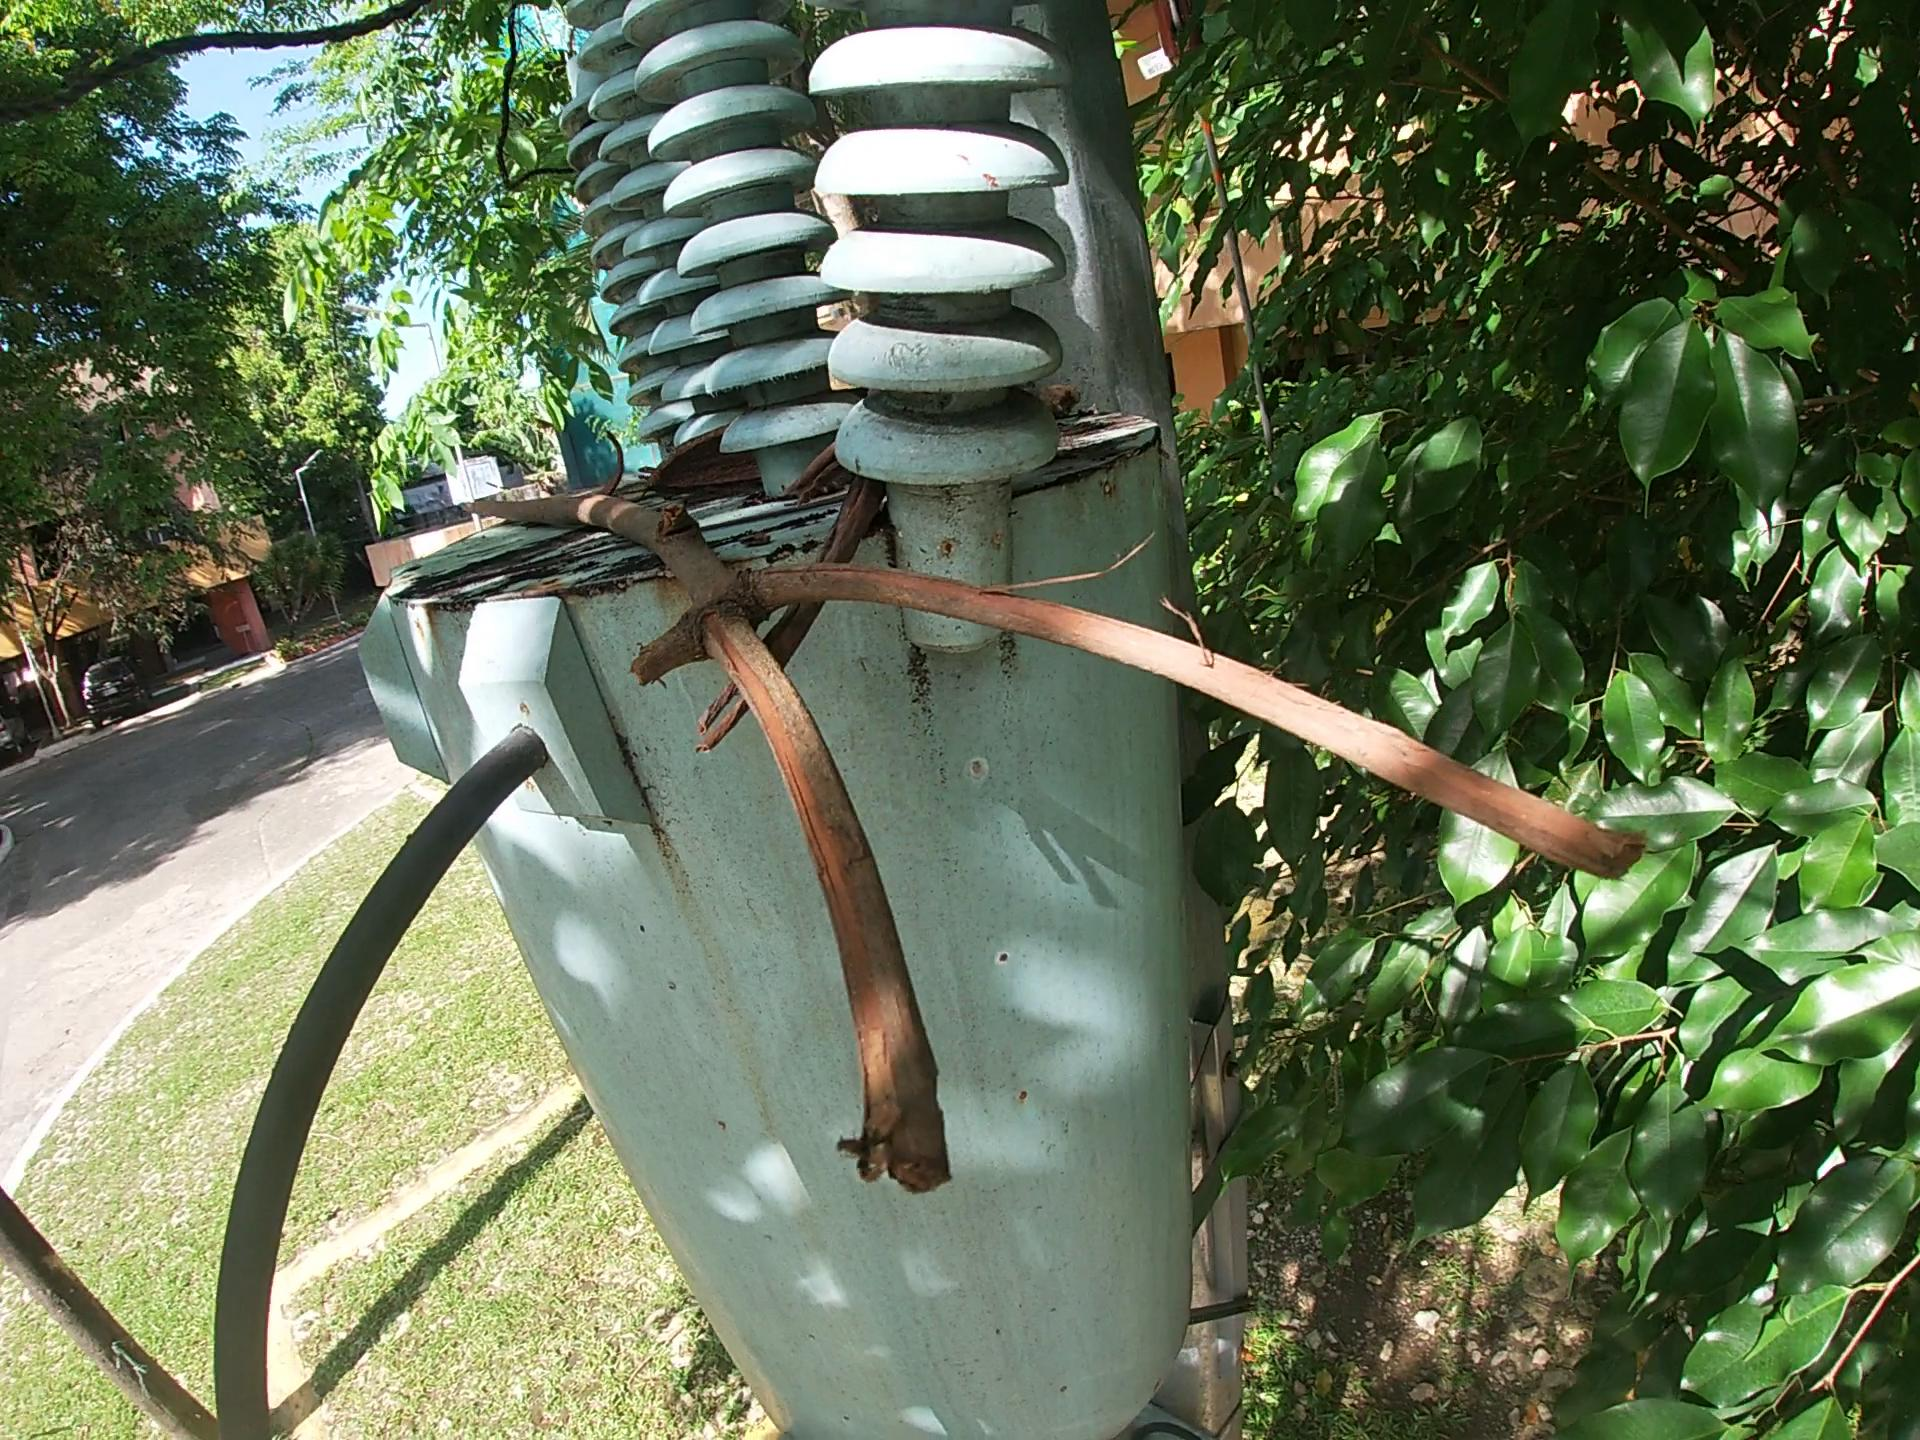mahogany fruit: (643, 424, 760, 498), (596, 428, 627, 498)
tree branch: (446, 470, 1654, 1213), (674, 439, 892, 781)
